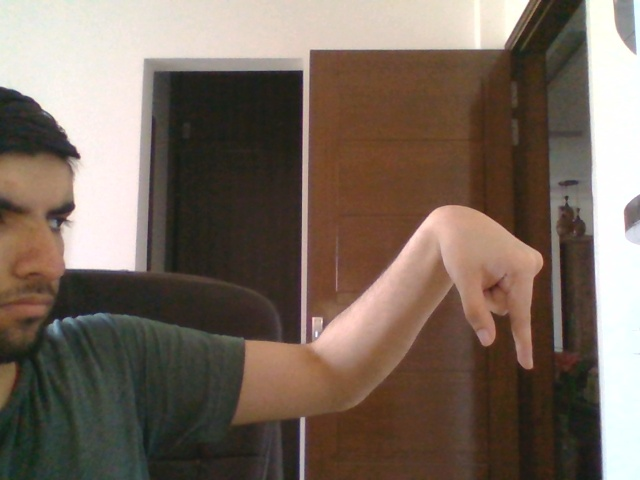LetterQ: (436, 202, 545, 374)
